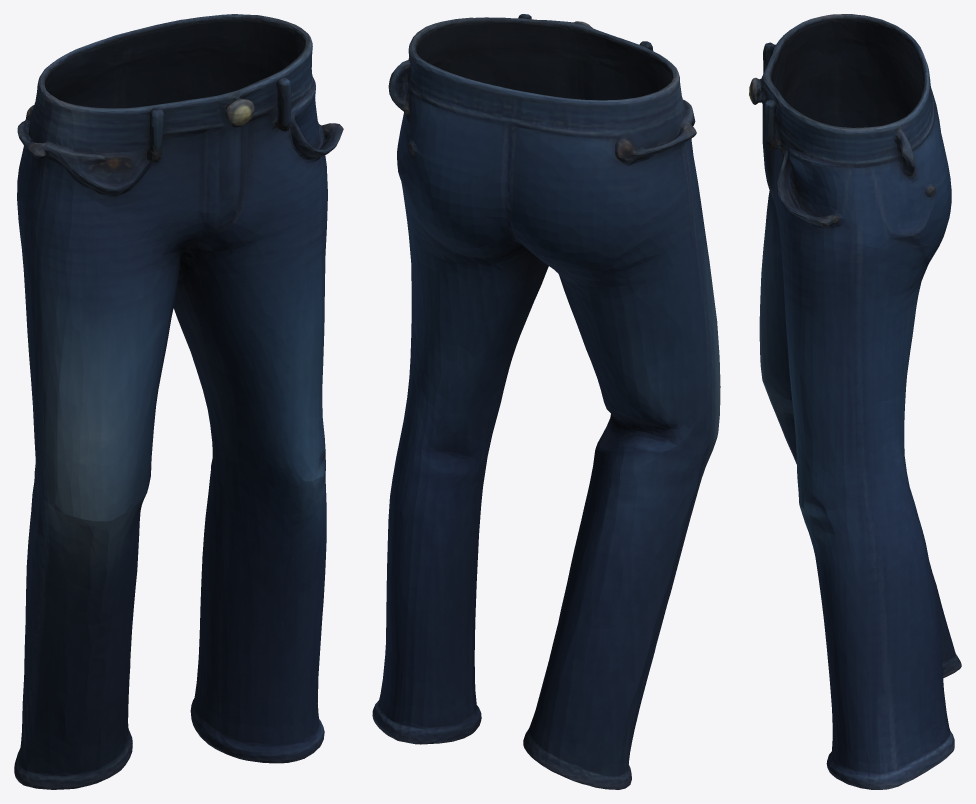
Rendered from AE_AirFlex+_Slim_Straight_Jean.glb.
The picture shows the model from 3 angles, left to right: view 1: azimuth 30°, elevation 25°; view 2: azimuth 150°, elevation 25°; view 3: azimuth 270°, elevation 25°; orthographic projection. The views are drawn at different scales.
Parts seen in each view (by area): view 1: world; view 2: world; view 3: world.
Boxes of the visible parts, bbox=[...] form: world: bbox=[14, 14, 343, 789]; world: bbox=[372, 14, 720, 789]; world: bbox=[749, 14, 961, 789].
Size of the model in its own units: 0.4598 by 1 by 0.2967.
1 material, 1 textured.
